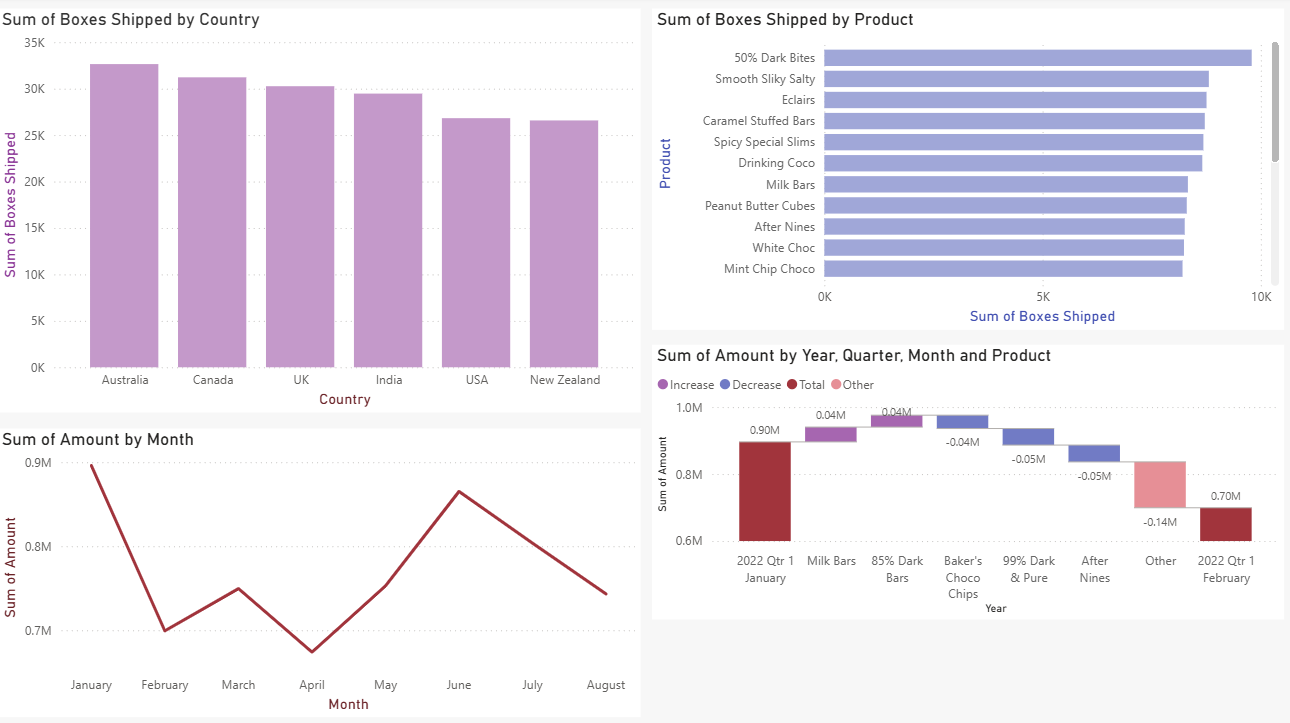

This screenshot's page, from the dashboard's own definition file:
{"tool":"powerbi","page":{"name":"Page 1","canvas":[1280,720],"ordinal":0},"visuals":[{"type":"columnChart","fields":{"Category":["data.Country"],"Y":["Sum(data.Boxes Shipped)"]},"box":[9.8,12.2,629.8,395],"z":0},{"type":"barChart","fields":{"Y":["Sum(data.Boxes Shipped)"],"Category":["data.Product"]},"box":[650.5,12.2,618.8,314.3],"z":1},{"type":"lineChart","fields":{"Category":["data.Date.Variation.Date Hierarchy.Year","data.Date.Variation.Date Hierarchy.Quarter","data.Date.Variation.Date Hierarchy.Month","data.Date.Variation.Date Hierarchy.Day"],"Y":["Sum(data.Amount)"]},"box":[9.8,423.1,629.8,282.5],"z":2},{"type":"waterfallChart","fields":{"Category":["data.Date.Variation.Date Hierarchy.Year","data.Date.Variation.Date Hierarchy.Quarter","data.Date.Variation.Date Hierarchy.Month"],"Breakdown":["data.Product"],"Y":["Sum(data.Amount)"]},"box":[650.5,341.2,618.8,269],"z":3}]}

Visuals, with their boxes in screenshot pixels (x1, y1, x2, y2), scaled from the page's 1280x720 canvas onto the 1290x723 screenshot:
columnChart - data.Country x Sum(data.Boxes Shipped): {"x1": 10, "y1": 12, "x2": 645, "y2": 409}
barChart - Sum(data.Boxes Shipped) x data.Product: {"x1": 656, "y1": 12, "x2": 1279, "y2": 328}
lineChart - data.Date.Variation.Date Hierarchy.Year x data.Date.Variation.Date Hierarchy.Quarter: {"x1": 10, "y1": 425, "x2": 645, "y2": 709}
waterfallChart - data.Date.Variation.Date Hierarchy.Year x data.Date.Variation.Date Hierarchy.Quarter: {"x1": 656, "y1": 343, "x2": 1279, "y2": 613}
